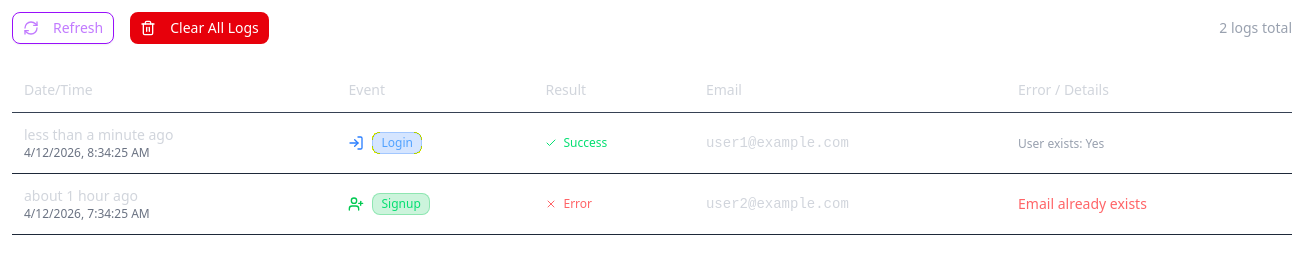
DebugDashboard › should clear logs when clear button is clicked
Expected: the text "user1@example.com" is shown, 706,135 -> 849,151
Step 1. Click the button "Clear All Logs" → click(200, 28), box 130,12 -> 269,44
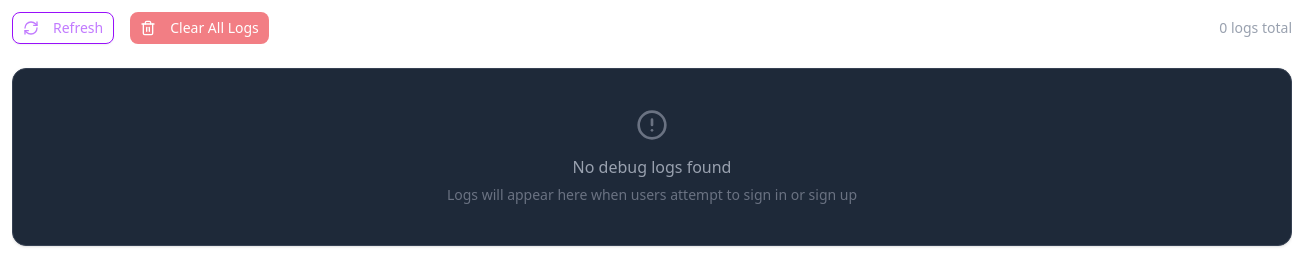
Expected: the text "No debug logs found" is shown, 573,156 -> 732,178
